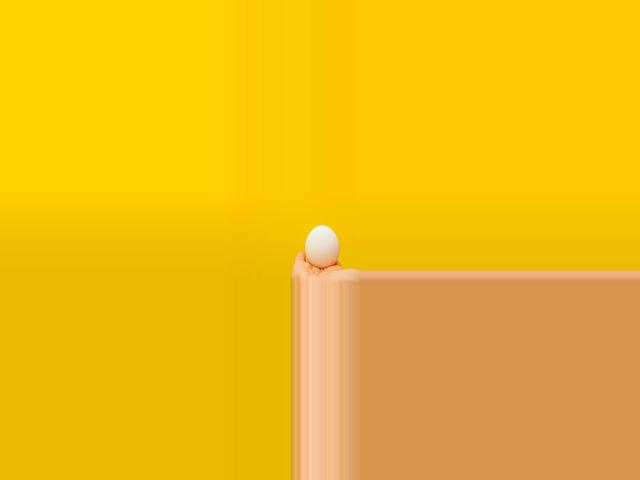egg: (304, 225, 337, 268)
